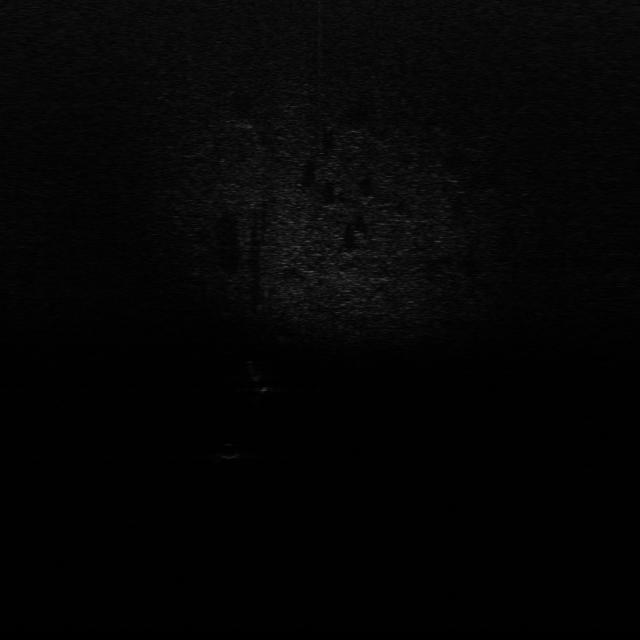ball: (217, 442, 242, 460)
human body: (244, 359, 274, 402)
